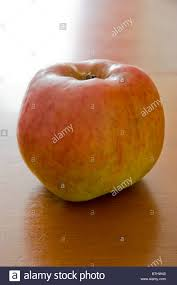apple: (23, 64, 172, 208)
